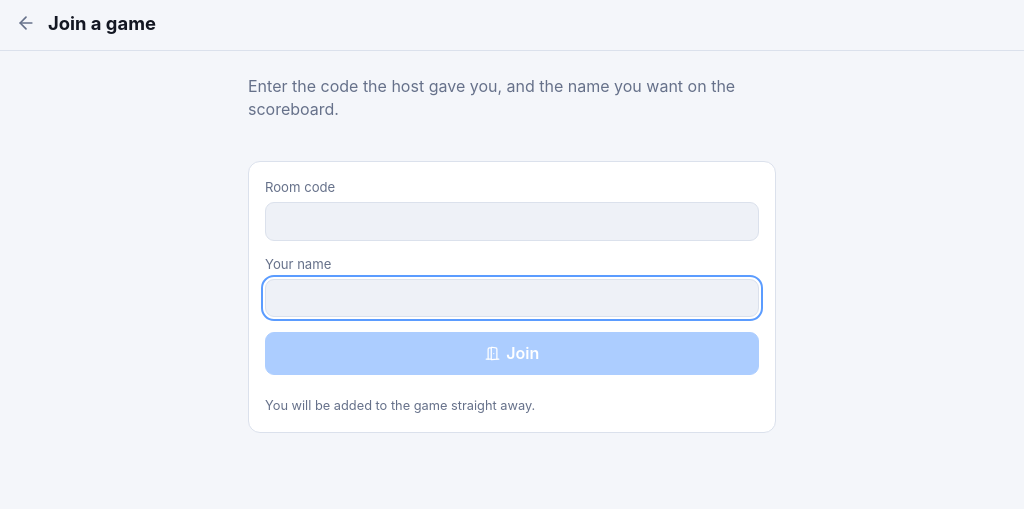
Test case: joining a room › remembers nothing when the code matched no room
Step 1. Type "AB23" into the field labelled "Room code" → (512, 221), box [265,202,759,241]
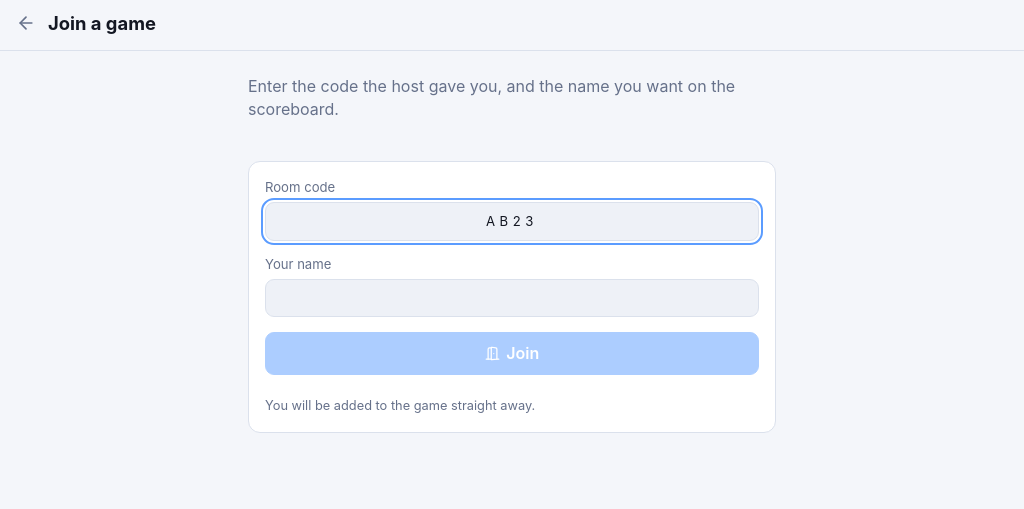
Step 2. Type "Grace" into the field labelled "Your name" → (512, 298), box [265,279,759,318]
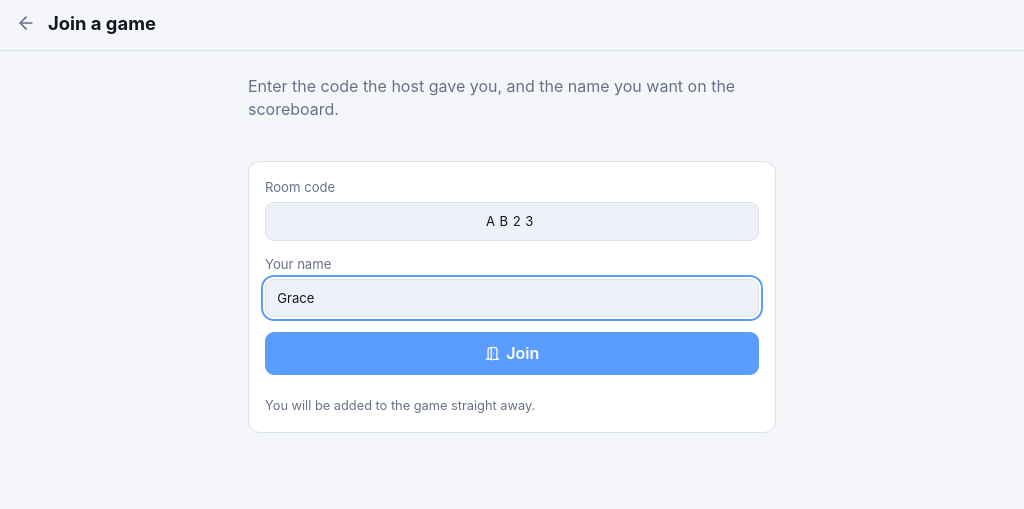
Step 3. Click the button "Join" → (512, 353), box [265,332,759,375]
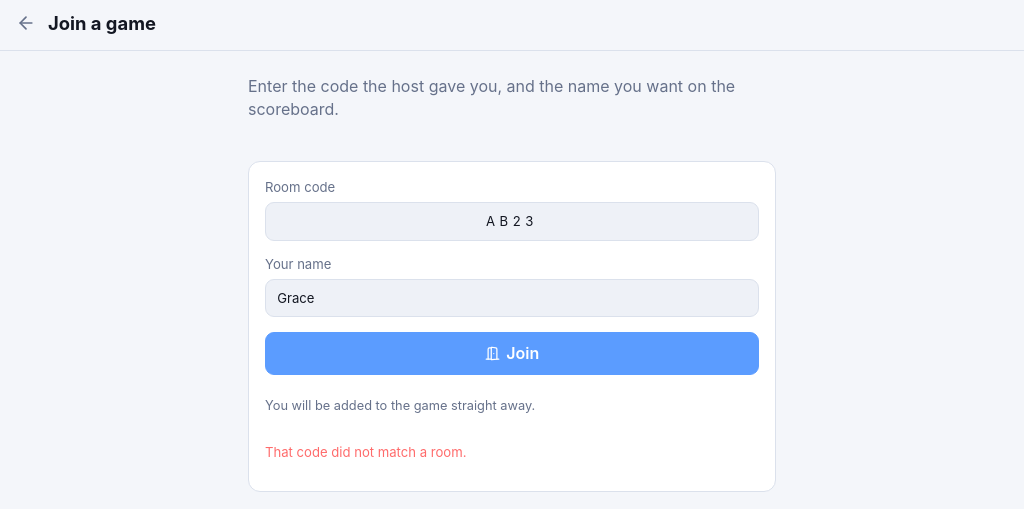
Expected: the message "That code did not match a room." is shown, [265,444,466,460]
